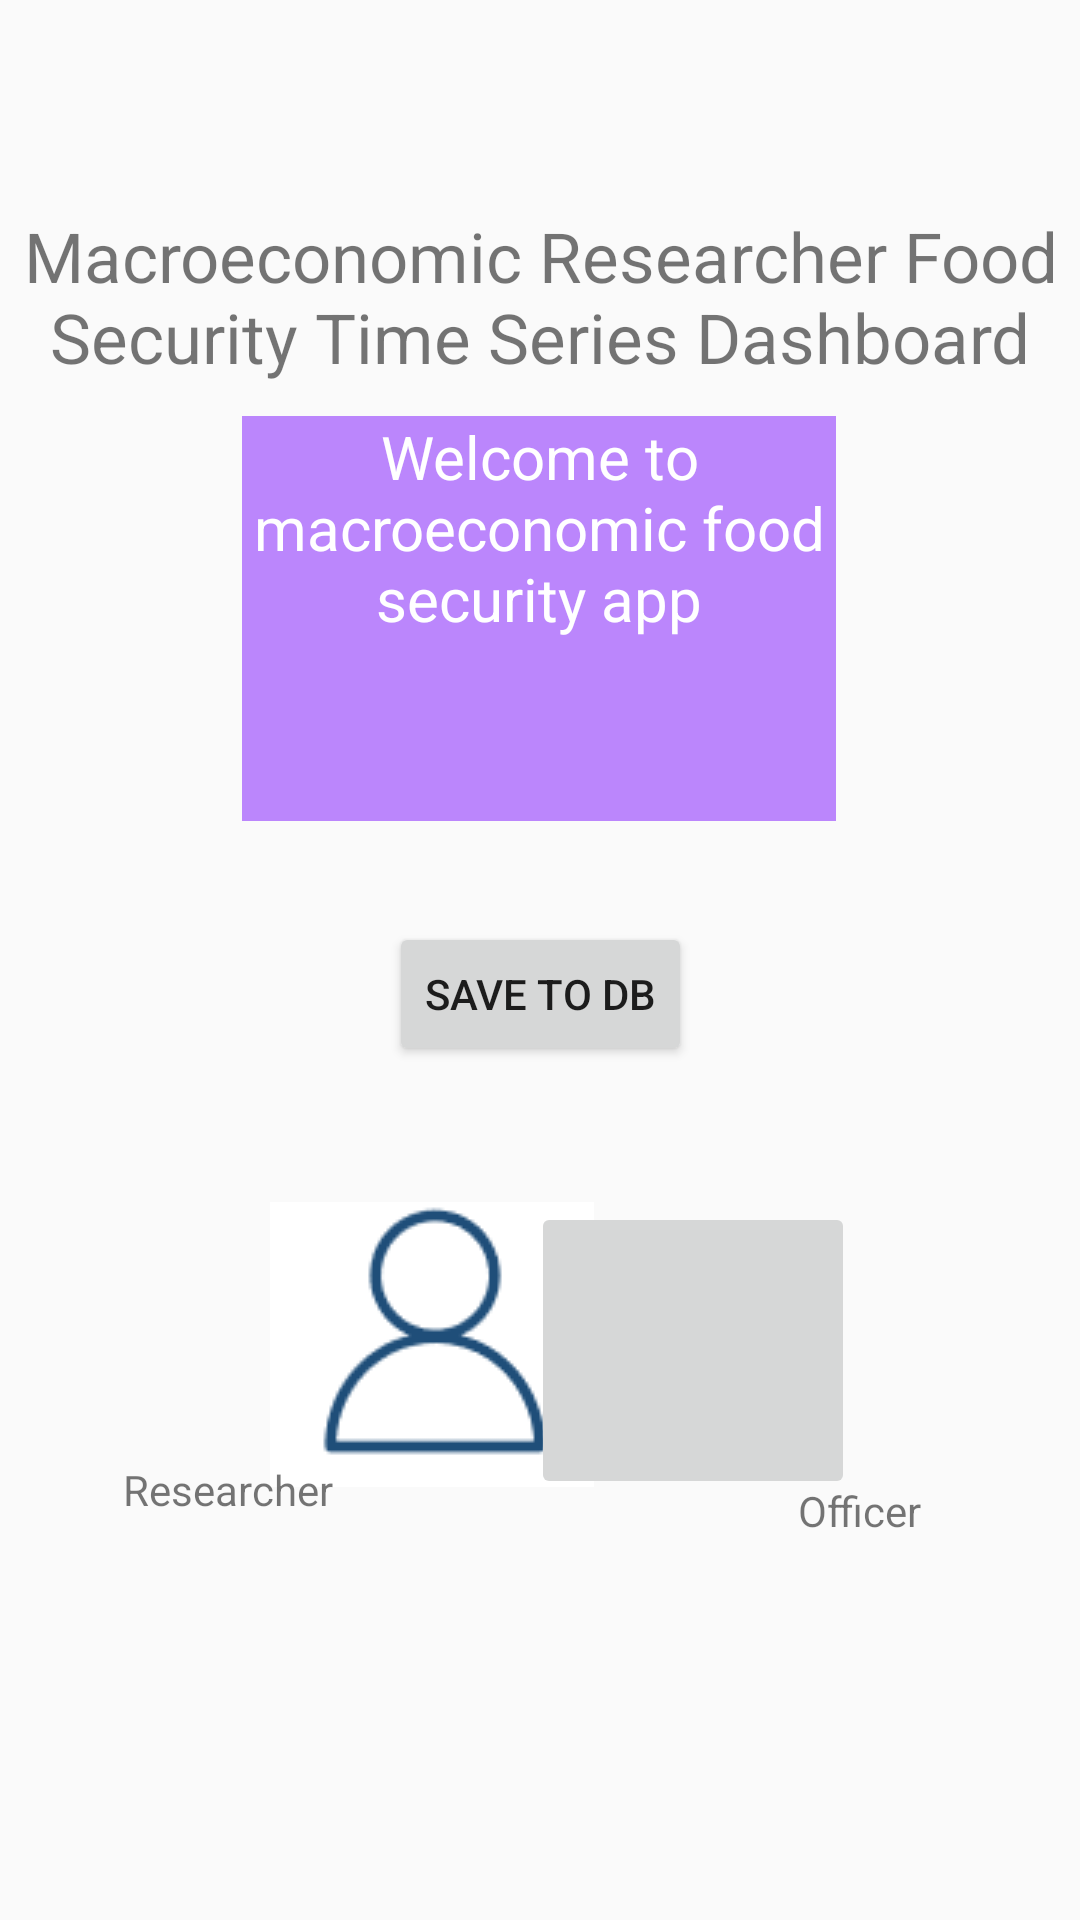

Screen size 1080*1920. Icon name, then its center in pixels as (x=x, y=y):
user: (x=432, y=1347)
